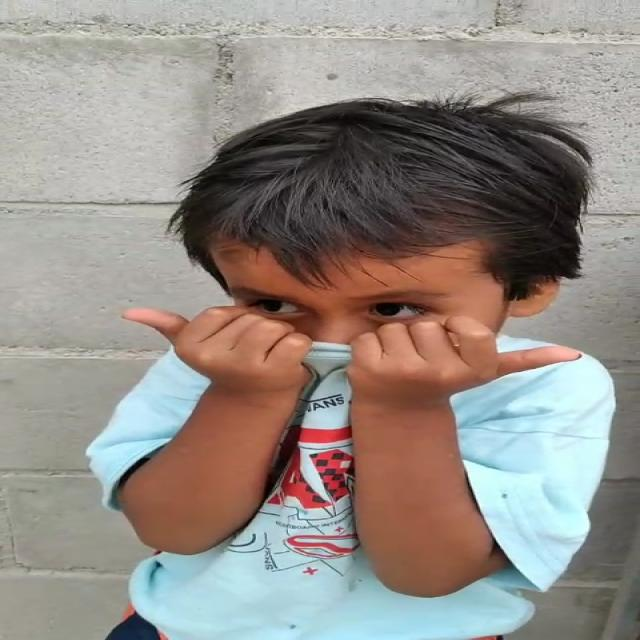8_ropa_rostro: (193, 322, 515, 452)
